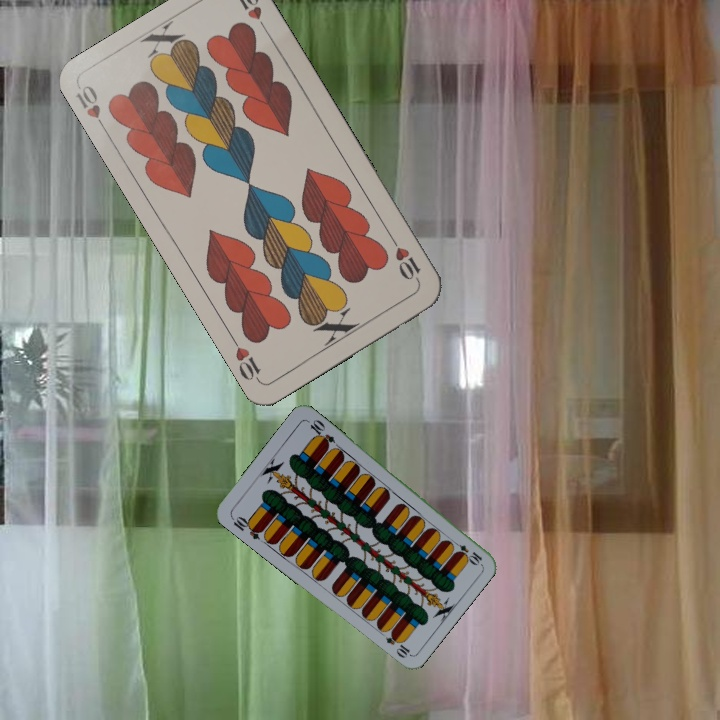E10: (227, 512, 265, 542), (448, 537, 485, 567)
H10: (72, 81, 111, 136), (386, 232, 424, 286)
